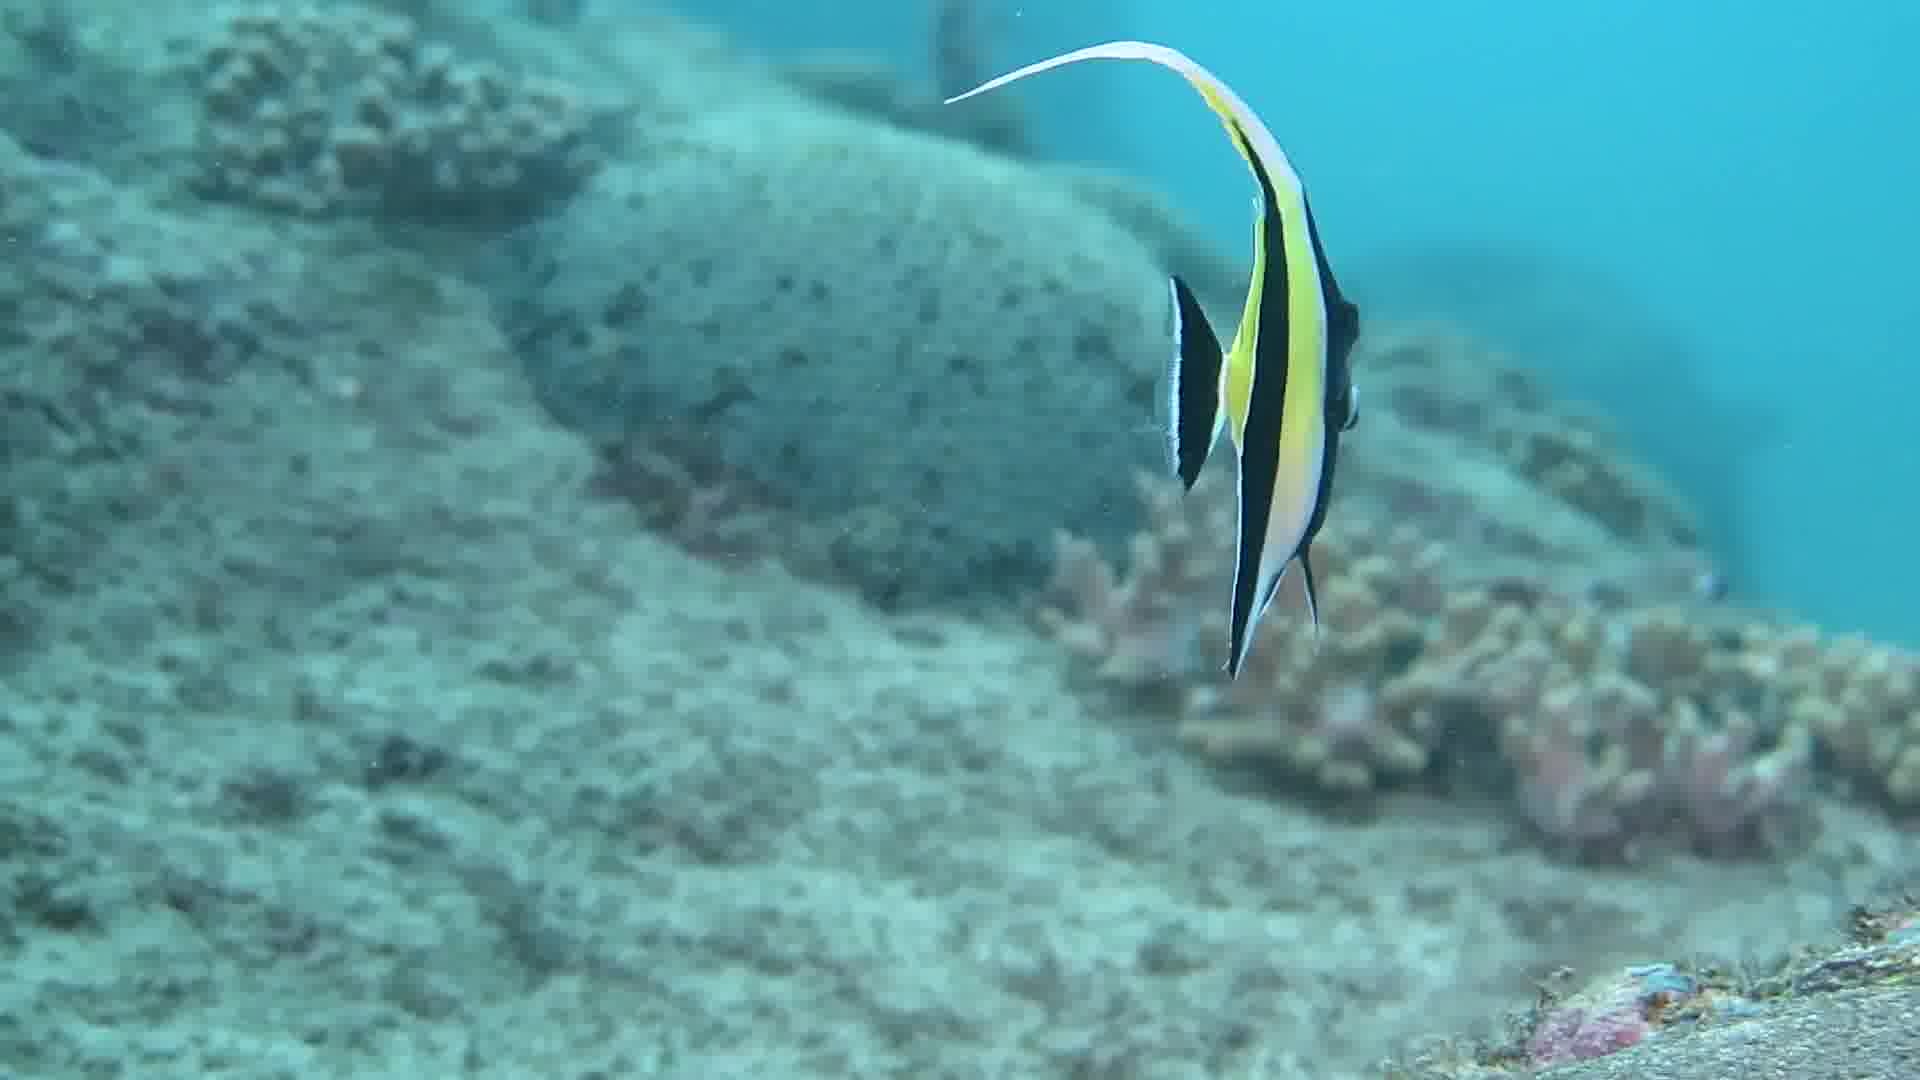Zanclus cornutus: (1021, 11, 1431, 691)
